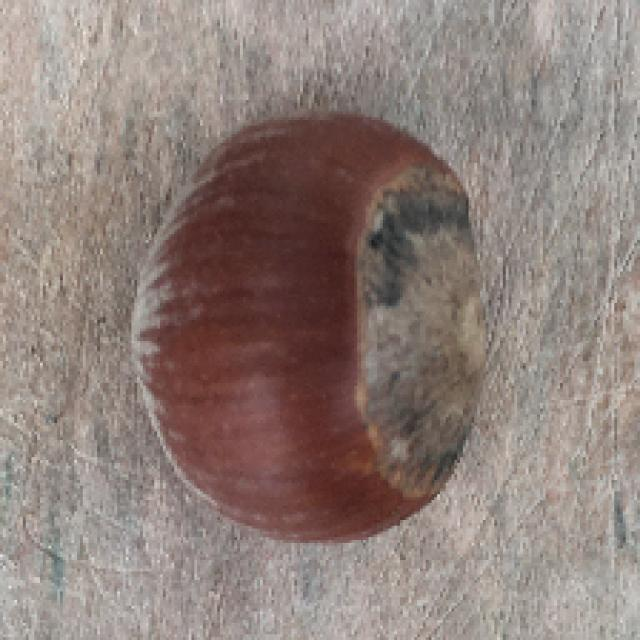damagedHazelnut: (134, 106, 489, 529)
